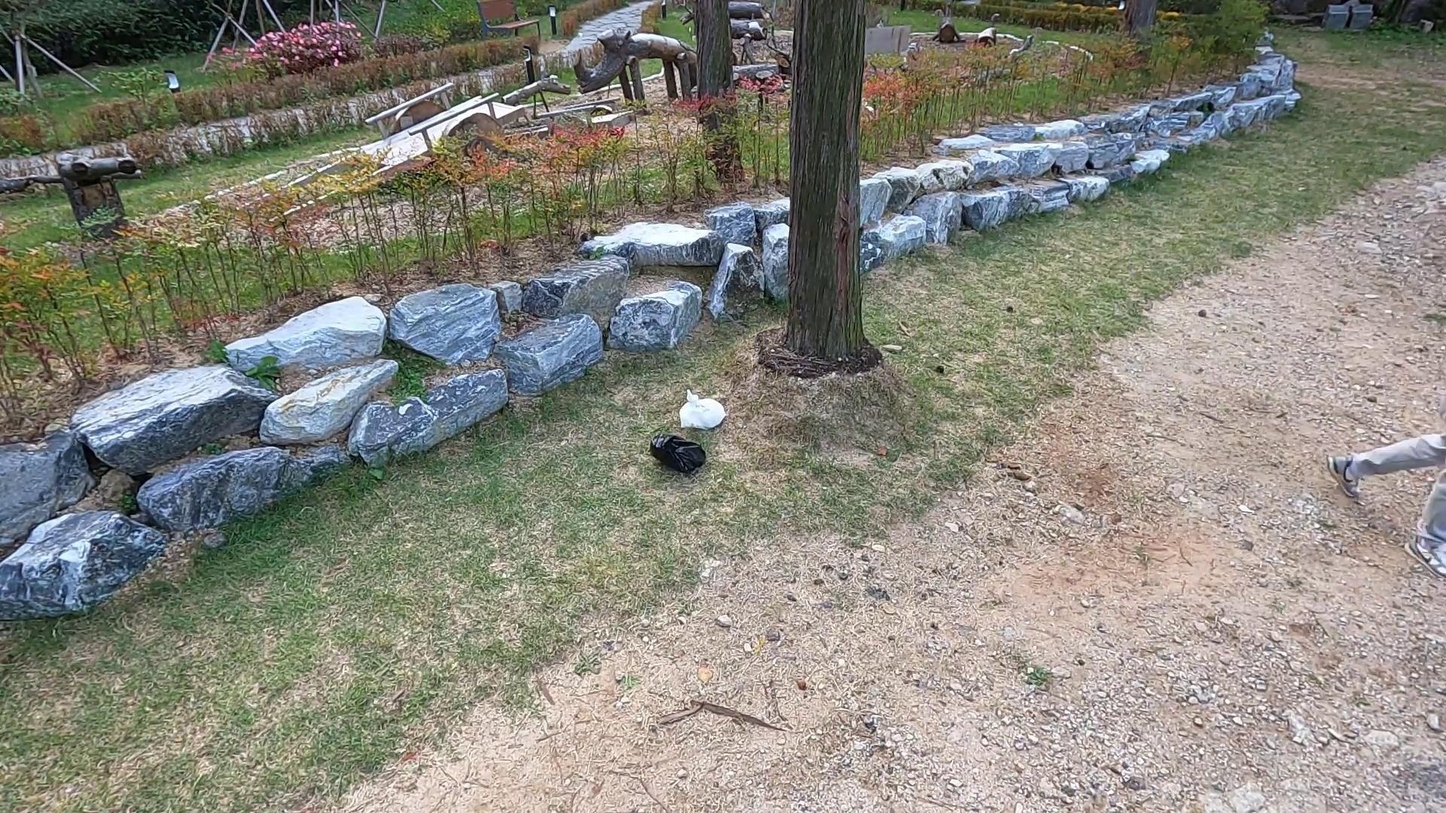trash: (649, 431, 707, 476)
